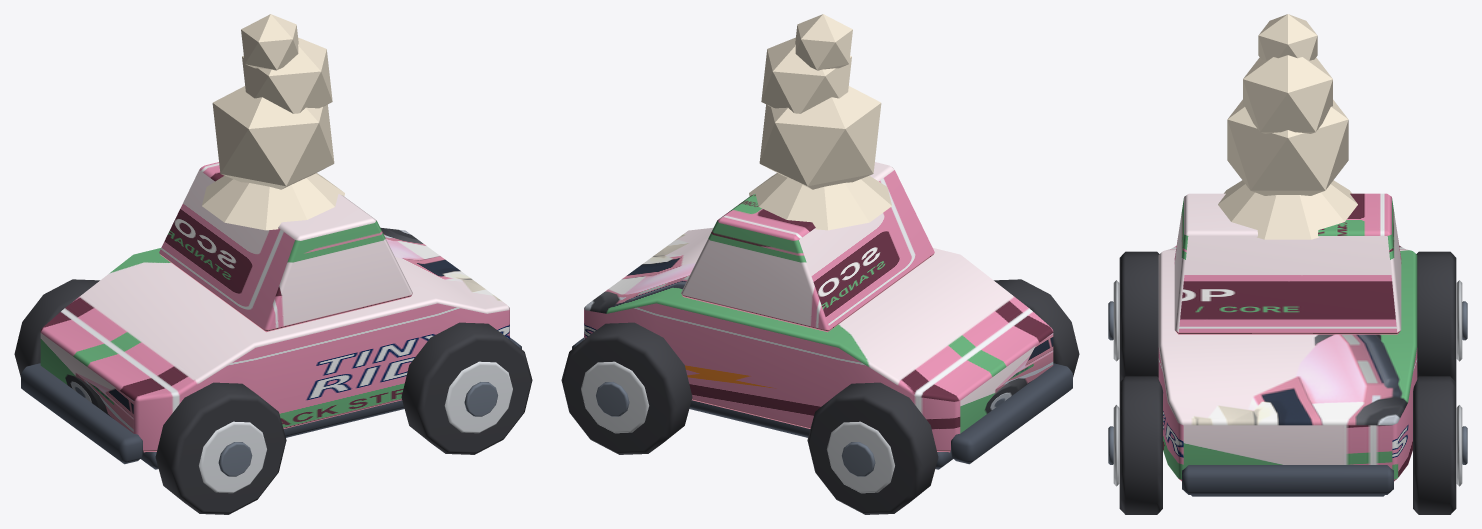
3 renders of one model, left to right at view 1: azimuth 30°, elevation 25°; view 2: azimuth 150°, elevation 25°; view 3: azimuth 270°, elevation 25°, orthographic. The views are drawn at different scales.
Parts seen in each view (by area): view 1: SS-01_connected_shell, SS-01_cabin, Tire, Tire.002, ice cream swirl 1, ice cream base, front bumper, ice cream swirl 2, Rim.002, Rim, ice cream swirl 3, Tire.001 (+3 smaller); view 2: SS-01_connected_shell, SS-01_cabin, Tire.001, Tire.003, ice cream swirl 1, ice cream base, front bumper, ice cream swirl 2, Rim.003, Rim.001, ice cream swirl 3, Tire (+3 smaller); view 3: SS-01_connected_shell, SS-01_cabin, ice cream swirl 1, rear bumper, Tire.002, Tire.003, ice cream swirl 2, ice cream base, Tire, Tire.001, ice cream swirl 3, Rim.002 (+3 smaller).
Part boxes in pixels (x1=…): SS-01_connected_shell: x1=40, y1=227, x2=509, y2=452; SS-01_cabin: x1=159, y1=162, x2=412, y2=332; Tire: x1=155, y1=382, x2=286, y2=514; Tire.002: x1=401, y1=322, x2=532, y2=454; ice cream swirl 1: x1=212, y1=86, x2=334, y2=189; ice cream base: x1=202, y1=173, x2=344, y2=230; front bumper: x1=21, y1=363, x2=143, y2=464; ice cream swirl 2: x1=242, y1=37, x2=332, y2=113; Rim.002: x1=444, y1=361, x2=512, y2=433; Rim: x1=199, y1=421, x2=266, y2=493; ice cream swirl 3: x1=241, y1=14, x2=298, y2=70; Tire.001: x1=14, y1=279, x2=99, y2=376; SS-01_connected_shell: x1=584, y1=227, x2=1053, y2=452; SS-01_cabin: x1=681, y1=162, x2=934, y2=332; Tire.001: x1=807, y1=382, x2=938, y2=514; Tire.003: x1=561, y1=322, x2=692, y2=454; ice cream swirl 1: x1=759, y1=86, x2=881, y2=189; ice cream base: x1=749, y1=173, x2=891, y2=230; front bumper: x1=950, y1=363, x2=1072, y2=464; ice cream swirl 2: x1=761, y1=37, x2=851, y2=113; Rim.003: x1=581, y1=361, x2=649, y2=433; Rim.001: x1=827, y1=421, x2=894, y2=493; ice cream swirl 3: x1=795, y1=14, x2=852, y2=70; Tire: x1=994, y1=279, x2=1079, y2=376; SS-01_connected_shell: x1=1158, y1=246, x2=1417, y2=481; SS-01_cabin: x1=1174, y1=193, x2=1401, y2=334; ice cream swirl 1: x1=1227, y1=99, x2=1348, y2=195; rear bumper: x1=1182, y1=465, x2=1393, y2=494; Tire.002: x1=1119, y1=376, x2=1162, y2=514; Tire.003: x1=1413, y1=376, x2=1456, y2=514; ice cream swirl 2: x1=1243, y1=55, x2=1332, y2=133; ice cream base: x1=1218, y1=180, x2=1357, y2=239; Tire: x1=1119, y1=251, x2=1159, y2=381; Tire.001: x1=1416, y1=251, x2=1456, y2=381; ice cream swirl 3: x1=1258, y1=14, x2=1317, y2=60; Rim.002: x1=1113, y1=405, x2=1119, y2=486.
Bounding box in the file's own units: 293 × 287 × 217.
